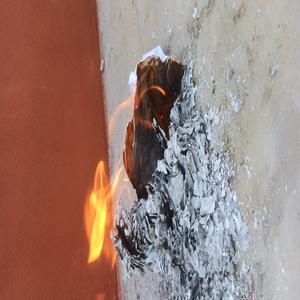fire: (78, 150, 118, 273), (108, 96, 136, 135)
